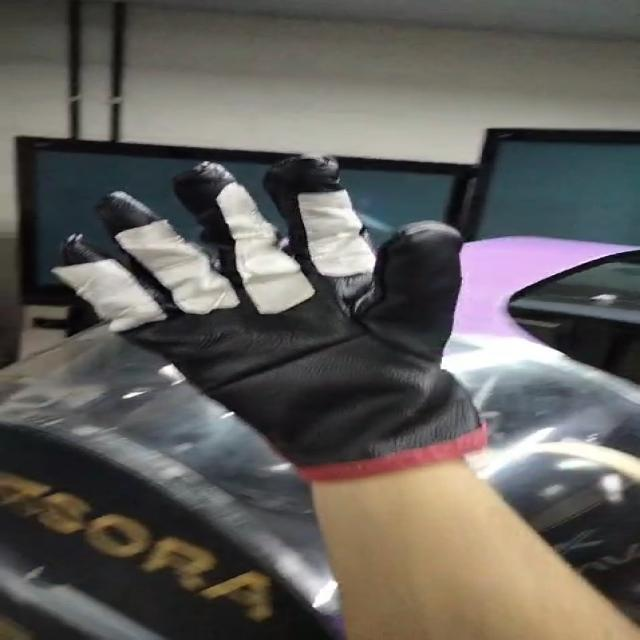Gloves: (47, 152, 542, 476)
